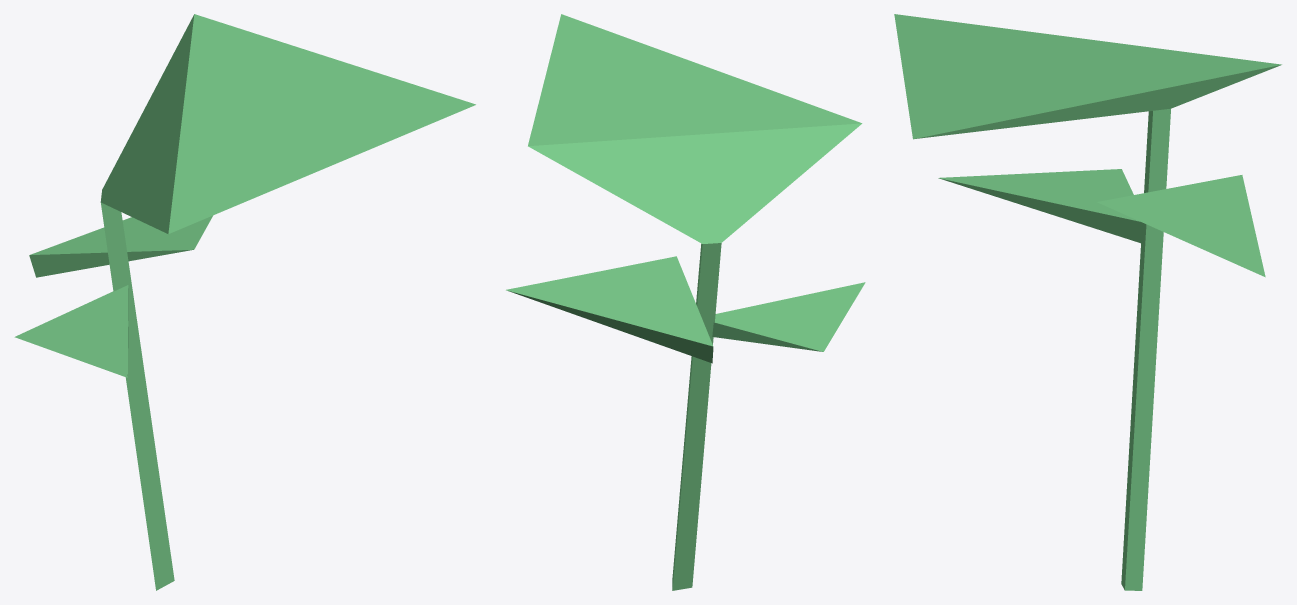
The model's file is plant_static.fbx.
3 views of the same model, side by side, from view 1: azimuth 30°, elevation 25°; view 2: azimuth 150°, elevation 25°; view 3: azimuth 270°, elevation 25° (orthographic). The views are drawn at different scales.
Visible parts, largest first — view 1: polySurface2769; view 2: polySurface2769; view 3: polySurface2769.
Boxes of the visible parts, bbox=[...] form: polySurface2769: bbox=[14, 14, 475, 590]; polySurface2769: bbox=[506, 14, 865, 590]; polySurface2769: bbox=[894, 14, 1281, 590].
Size of the model in its own units: 3.96 by 5.07 by 3.08.
